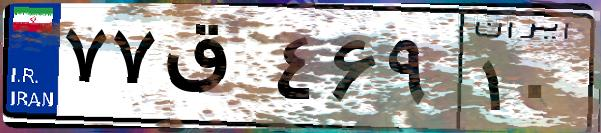0: (525, 38, 570, 115)
1: (475, 38, 525, 113)
4: (270, 28, 330, 110)
6: (330, 28, 385, 110)
7: (57, 26, 110, 100), (110, 28, 158, 98)
9: (385, 28, 445, 110)
ق: (158, 20, 270, 120)
